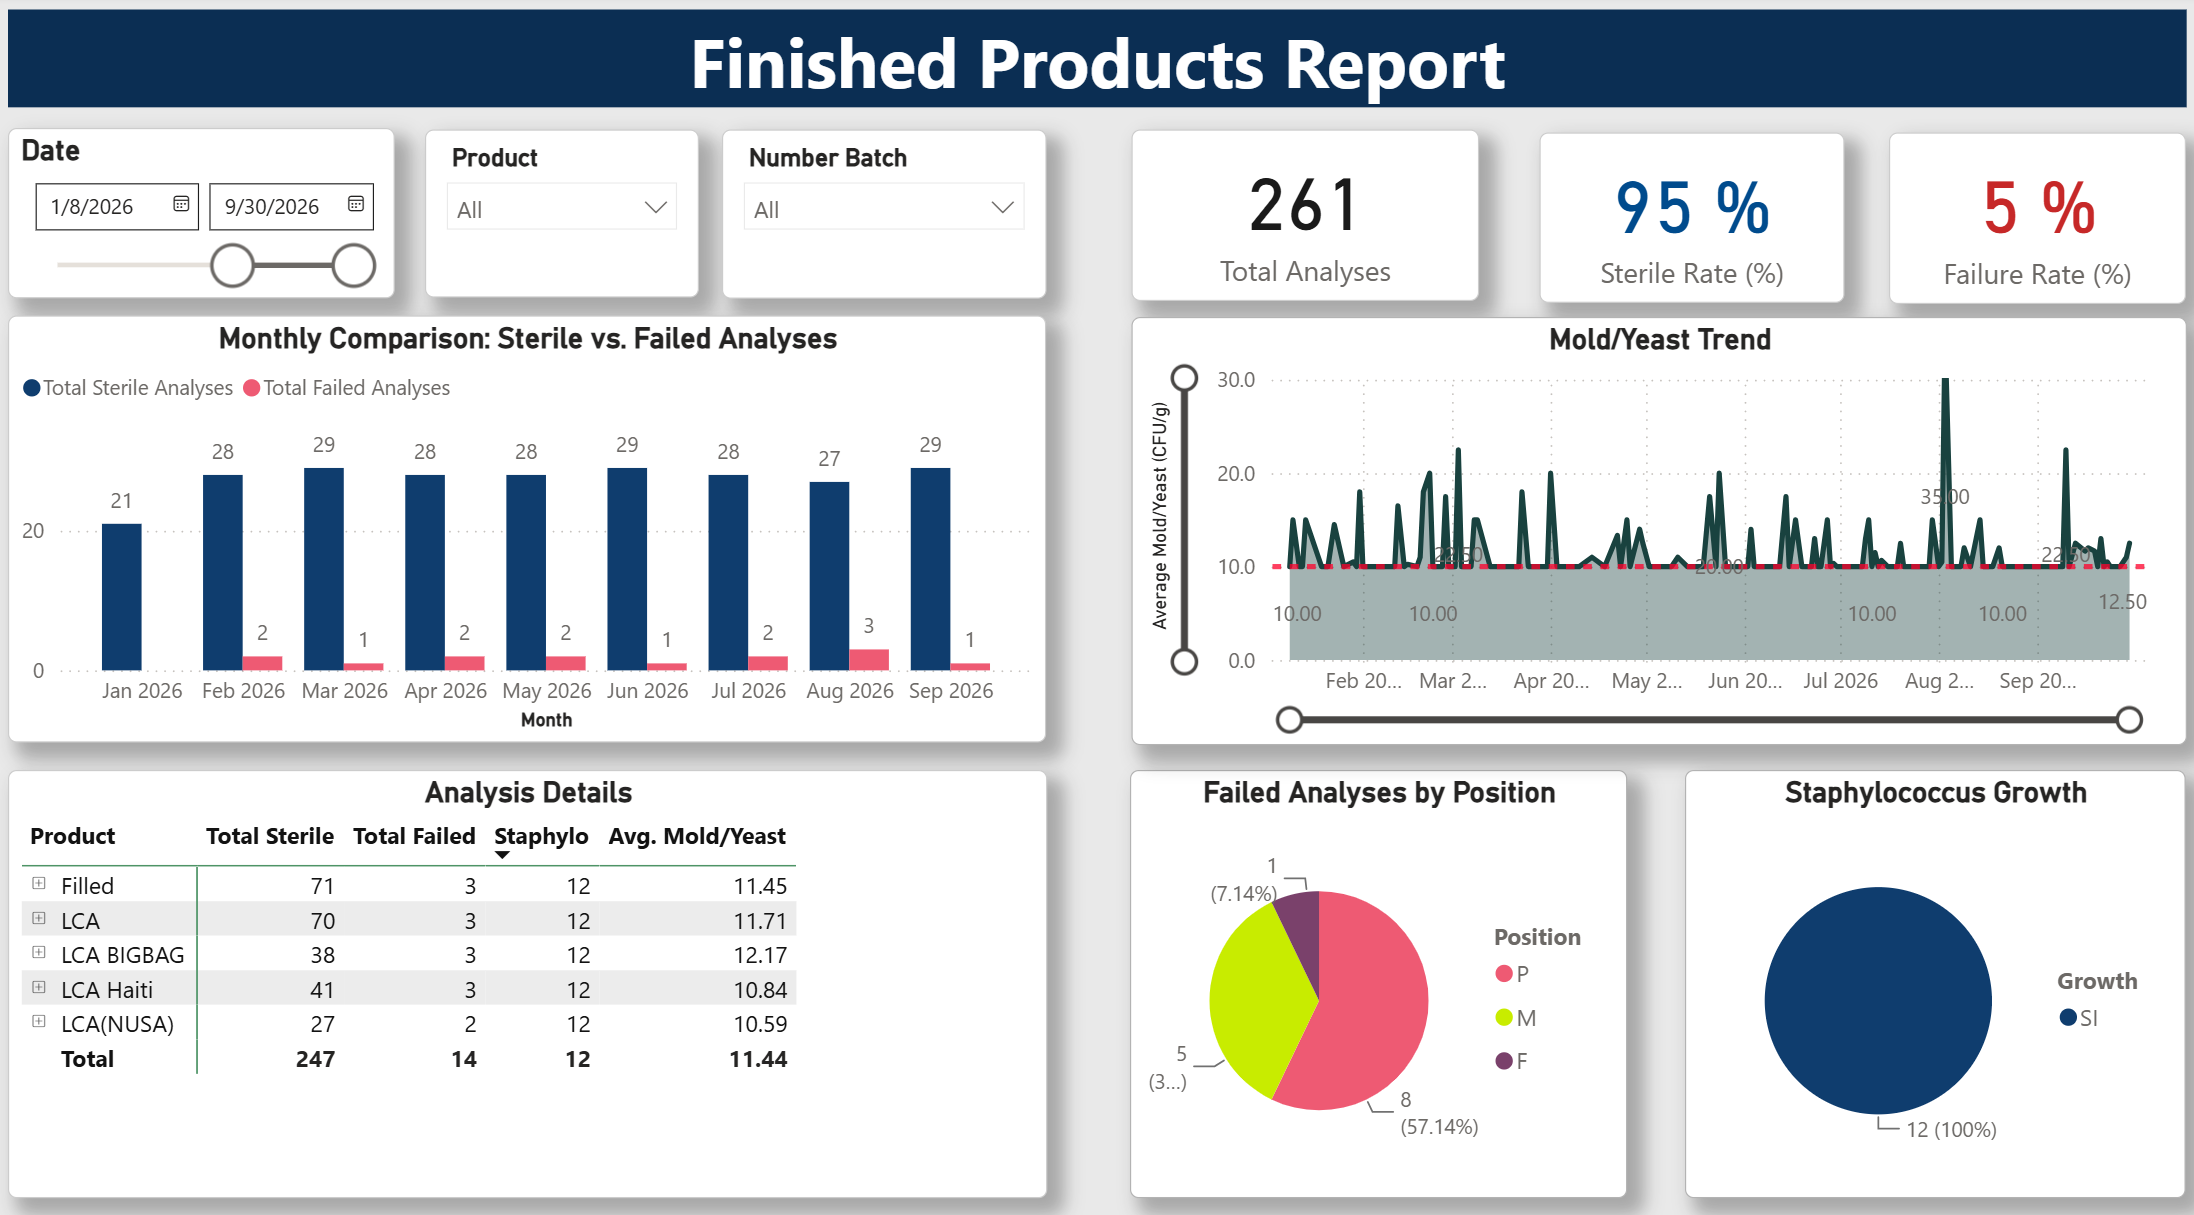

The page's visual inventory and layout, read from the dashboard file:
{"tool":"powerbi","page":{"name":"Finished Products","canvas":[1280,720],"ordinal":2},"visuals":[{"type":"shape","box":[8.9,7.8,1262.2,56.7],"z":0},{"type":"slicer","title":"Date","fields":{"Values":["Dim_Fecha.Date"]},"box":[8.8,76.2,223.8,98.8],"z":2000},{"type":"slicer","fields":{"Values":["DimProducto.Producto"]},"box":[250,77.5,158.8,97.5],"z":3000},{"type":"slicer","fields":{"Values":["Productos Terminados.Lote"]},"box":[422.6,77.1,187.7,97.9],"z":4000},{"type":"card","fields":{"Values":["Productos Terminados.Total Análisis PT"]},"box":[659.3,77.1,201.5,99.5],"z":5000},{"type":"card","fields":{"Values":["Productos Terminados.% Estériles PT"]},"box":[896,79.2,176.8,98.5],"z":6000},{"type":"card","fields":{"Values":["Productos Terminados.% Estropeados PT"]},"box":[1098.6,79.2,172.2,99.5],"z":7000},{"type":"clusteredColumnChart","title":"Monthly Comparison: Sterile vs. Failed Analyses","fields":{"Category":["Dim_Fecha.Mes-Año"],"Y":["Productos Terminados.Total Estériles PT","Productos Terminados.Total Estropeados PT"]},"box":[9.1,185,601.2,247.6],"z":8000},{"type":"pieChart","title":"Failed Analyses by Position","fields":{"Category":["Productos Terminados.Posicion"],"Y":["Productos Terminados.Estropeados Posicion"]},"box":[659,448,288,248],"z":9000},{"type":"stackedAreaChart","title":"Mold/Yeast Trend","fields":{"Category":["Dim_Fecha.Date.Variación.Date Hierarchy.Year","Dim_Fecha.Date.Variación.Date Hierarchy.Month","Dim_Fecha.Date.Variación.Date Hierarchy.Day"],"Y":["Productos Terminados.Promedio MoLe (UFC/g)"]},"box":[659.3,186,611.5,247.7],"z":10000},{"type":"pieChart","title":"Staphylococcus Growth","fields":{"Category":["Productos Terminados.Staph Estado"],"Y":["Productos Terminados.Análisis Staph (con resultado)"]},"box":[980,448,290,248],"z":11000},{"type":"pivotTable","title":"Analysis Details","fields":{"Rows":["Productos Terminados.Producto","Productos Terminados.Lote"],"Values":["Productos Terminados.Total Estériles PT","Productos Terminados.Total Estropeados PT","Productos Terminados.Staph Positivos","Productos Terminados.MoLe Promedio (Contexto Dinámico)"]},"box":[9,448,602,248],"z":12000}]}

Visuals, with their boxes in screenshot pixels (x1, y1, x2, y2), scaled from the page's 1280x720 canvas onto the 2194x1215 screenshot:
shape: bbox=(15, 13, 2179, 109)
"Date" slicer: bbox=(15, 129, 399, 295)
slicer - DimProducto.Producto: bbox=(429, 131, 701, 295)
slicer - Productos Terminados.Lote: bbox=(724, 130, 1046, 295)
card - Productos Terminados.Total Análisis PT: bbox=(1130, 130, 1475, 298)
card - Productos Terminados.% Estériles PT: bbox=(1536, 134, 1839, 300)
card - Productos Terminados.% Estropeados PT: bbox=(1883, 134, 2178, 302)
"Monthly Comparison: Sterile vs. Failed Analyses" clusteredColumnChart: bbox=(16, 312, 1046, 730)
"Failed Analyses by Position" pieChart: bbox=(1130, 756, 1623, 1174)
"Mold/Yeast Trend" stackedAreaChart: bbox=(1130, 314, 2178, 732)
"Staphylococcus Growth" pieChart: bbox=(1680, 756, 2177, 1174)
"Analysis Details" pivotTable: bbox=(15, 756, 1047, 1174)
